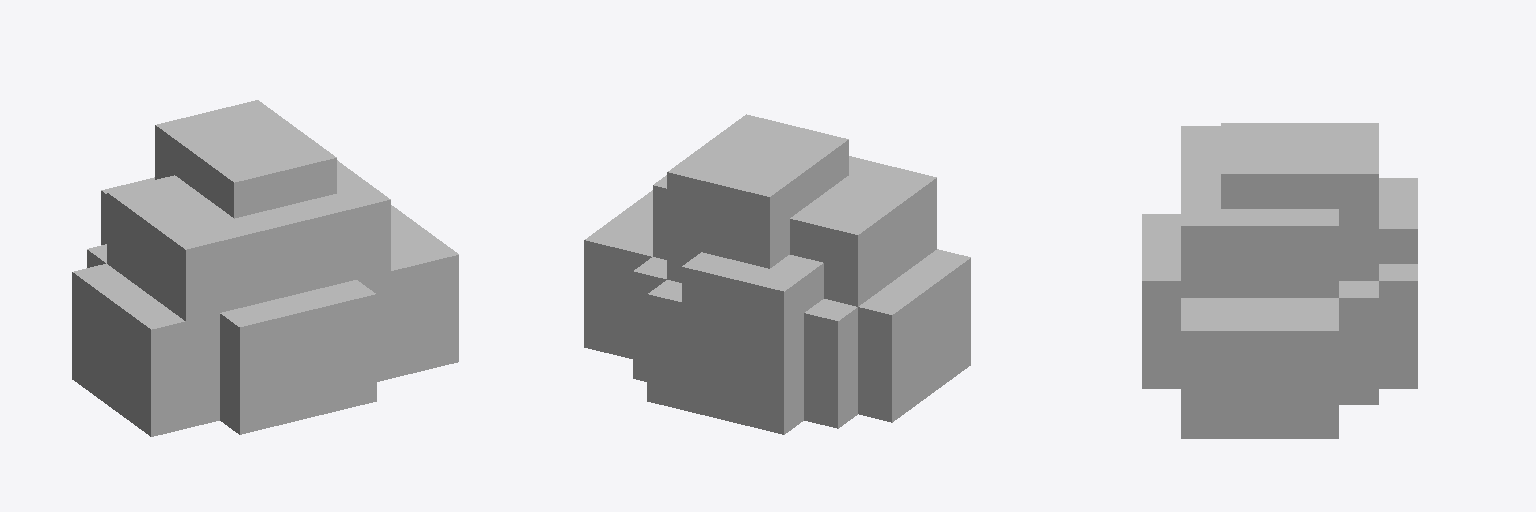
The model's file is Rock1.obj.
3 views of the same model, side by side, from view 1: azimuth 30°, elevation 25°; view 2: azimuth 150°, elevation 25°; view 3: azimuth 270°, elevation 25° (orthographic).
Visible parts, largest first — view 1: object 1; view 2: object 1; view 3: object 1.
Boxes of the visible parts, x1,y1,x2,y2 form: object 1: [72, 100, 458, 436]; object 1: [584, 114, 970, 434]; object 1: [1142, 123, 1417, 438].
Bounding box in the file's own units: 0.9 × 0.6 × 0.7.